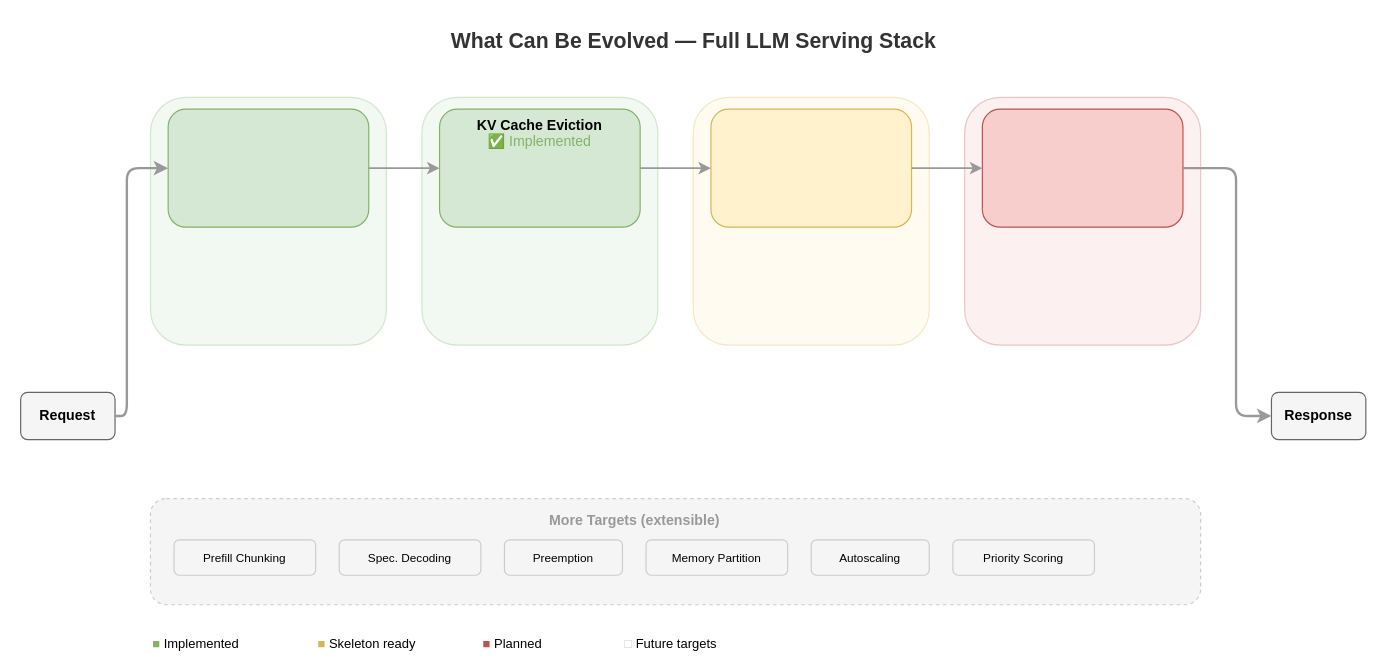
This 1386x671 diagram has some shape labels left out. The centre of each missing label's shape, as x and y in pixels:
"AFD Scheduling 🔲 Planned" goes at point 1082,167.
"PD Routing 🔲 Skeleton ready" goes at point 811,167.
"Request Scheduling ✅ Implemented" goes at point 268,167.
